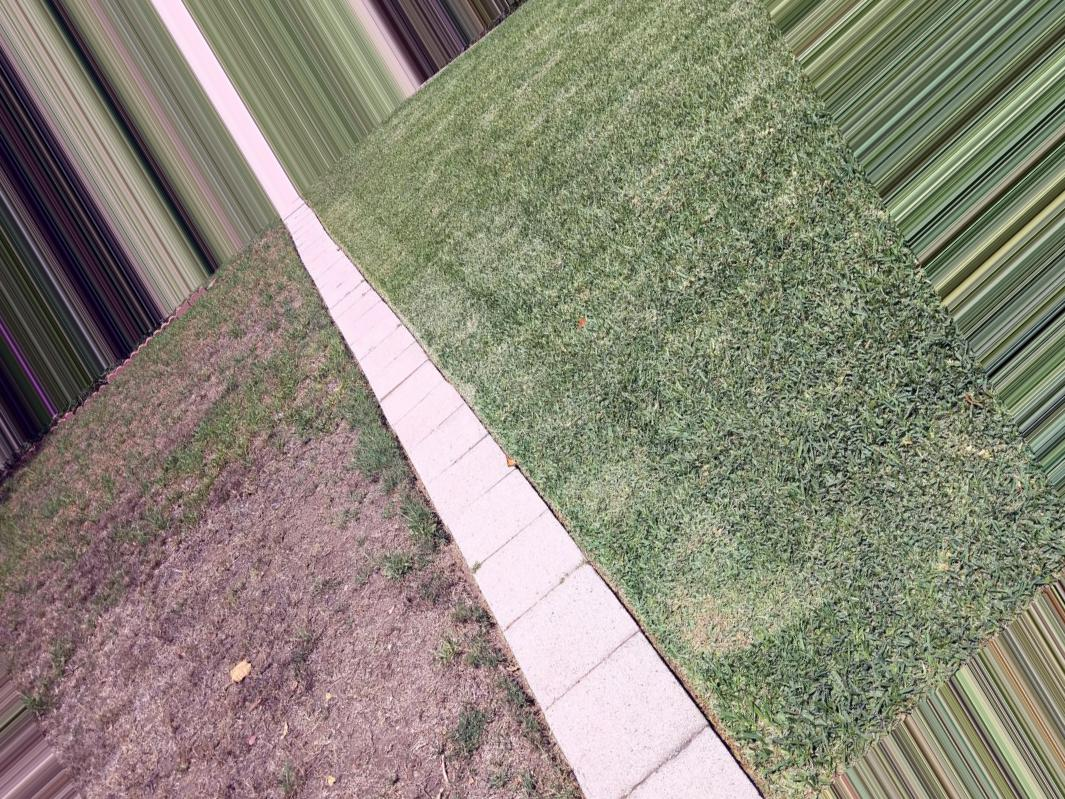patch: (104, 456, 473, 763), (137, 353, 254, 431)
